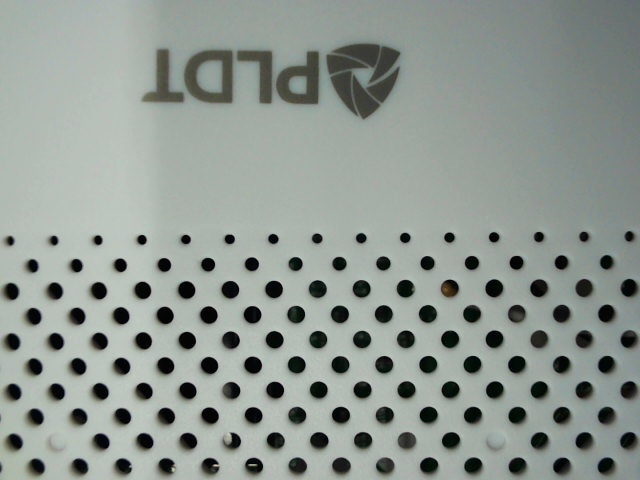BH_PLDT: (122, 32, 417, 123)
